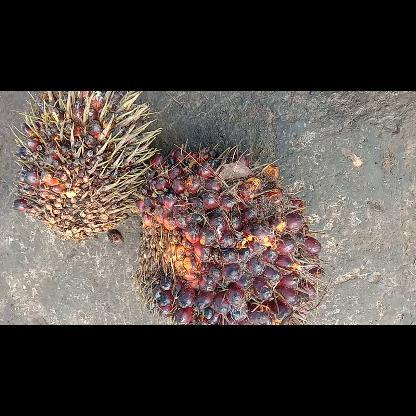Kurang masak: (134, 139, 328, 324)
TBS abnormal: (10, 91, 160, 243)
